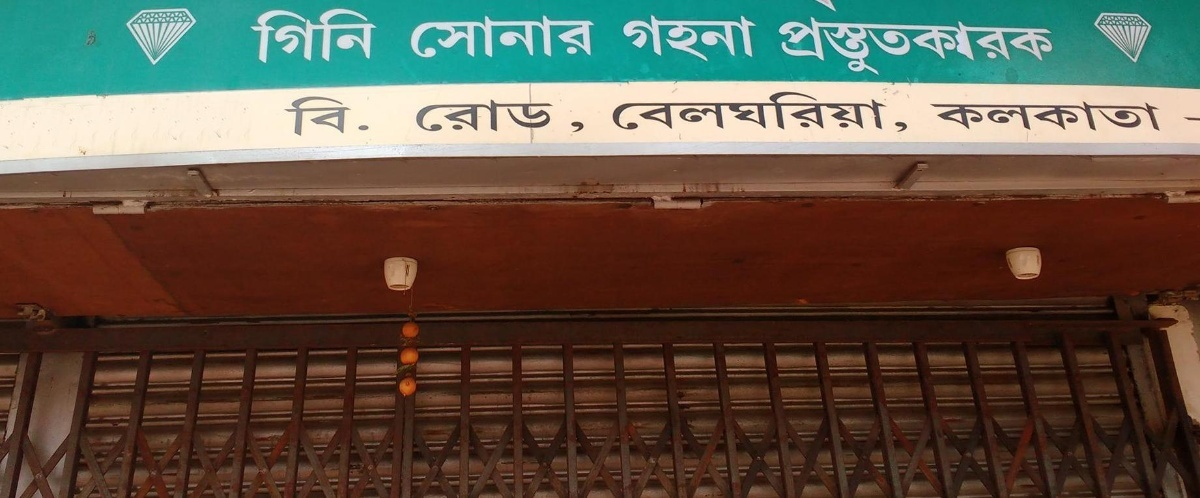text: (257, 6, 272, 71), (273, 6, 288, 71), (289, 6, 304, 71), (305, 6, 320, 71), (321, 6, 336, 71), (337, 6, 352, 71), (353, 6, 368, 71), (785, 14, 800, 79), (801, 14, 816, 79), (817, 14, 832, 79), (833, 14, 848, 79), (849, 14, 864, 79), (865, 14, 880, 79), (881, 14, 896, 79), (897, 14, 912, 79), (913, 14, 928, 79), (929, 14, 944, 79), (945, 14, 960, 79), (961, 14, 976, 79), (977, 14, 992, 79), (993, 14, 1008, 79), (1009, 14, 1024, 79), (1025, 14, 1040, 79), (1041, 14, 1056, 79), (417, 8, 432, 69), (433, 8, 448, 69), (449, 8, 464, 69), (465, 8, 480, 69), (481, 8, 496, 69), (497, 8, 512, 69), (513, 8, 528, 69), (529, 8, 544, 69), (545, 8, 560, 69), (561, 8, 576, 69), (577, 8, 592, 69), (625, 84, 640, 140), (641, 84, 656, 140), (657, 84, 672, 140), (673, 84, 688, 140), (689, 84, 704, 140), (705, 84, 720, 140), (721, 84, 736, 140), (737, 84, 752, 140), (753, 84, 768, 140), (769, 84, 784, 140), (785, 84, 800, 140), (801, 84, 816, 140), (817, 84, 832, 140), (833, 84, 848, 140), (849, 84, 864, 140), (865, 84, 880, 140), (881, 84, 896, 140), (897, 84, 912, 140), (625, 12, 640, 67), (641, 12, 656, 67), (657, 12, 672, 67), (673, 12, 688, 67), (689, 12, 704, 67), (705, 12, 720, 67), (721, 12, 736, 67), (737, 12, 752, 67), (610, 84, 624, 140), (772, 14, 784, 79), (369, 6, 380, 71), (289, 94, 304, 140), (305, 94, 320, 140), (321, 94, 336, 140), (337, 94, 352, 140), (353, 94, 368, 140), (417, 95, 432, 137), (433, 95, 448, 137), (449, 95, 464, 137), (465, 95, 480, 137), (481, 95, 496, 137), (497, 95, 512, 137), (513, 95, 528, 137), (529, 95, 544, 137), (545, 95, 560, 137), (561, 95, 576, 137), (929, 94, 944, 135), (945, 94, 960, 135), (961, 94, 976, 135), (977, 94, 992, 135), (993, 94, 1008, 135), (1009, 94, 1024, 135), (1025, 94, 1040, 135), (1041, 94, 1056, 135), (1057, 94, 1072, 135), (1073, 94, 1088, 135), (1089, 94, 1104, 135), (1105, 94, 1120, 135), (1121, 94, 1136, 135), (1137, 94, 1152, 135), (1153, 94, 1168, 135), (1169, 94, 1184, 135), (1185, 94, 1200, 135), (248, 6, 256, 71), (593, 8, 601, 69), (577, 95, 586, 137), (410, 8, 416, 69), (753, 12, 759, 67), (1057, 14, 1062, 79), (817, 1, 832, 15), (412, 95, 416, 137), (621, 12, 624, 67), (913, 84, 915, 140), (369, 94, 371, 140), (811, 1, 816, 15), (287, 94, 288, 140), (927, 94, 928, 135), (833, 1, 835, 15)
